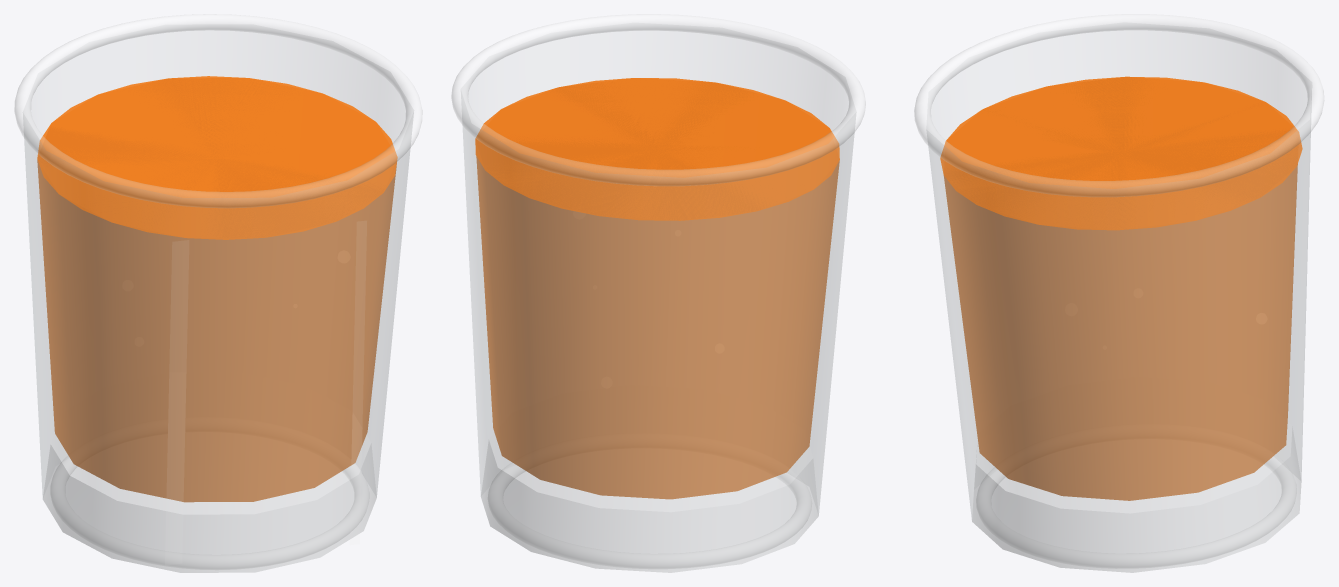
File: hot-tea-glass.glb
3 views of the same model, side by side, from view 1: azimuth 30°, elevation 25°; view 2: azimuth 150°, elevation 25°; view 3: azimuth 270°, elevation 25° (orthographic).
Size of what is drawn, in the model's own units: 1.47 by 1.65 by 1.51.
